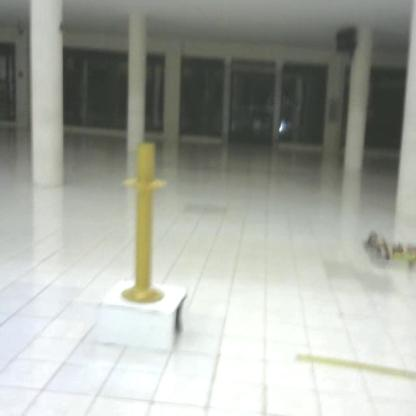pole: (120, 139, 172, 314)
